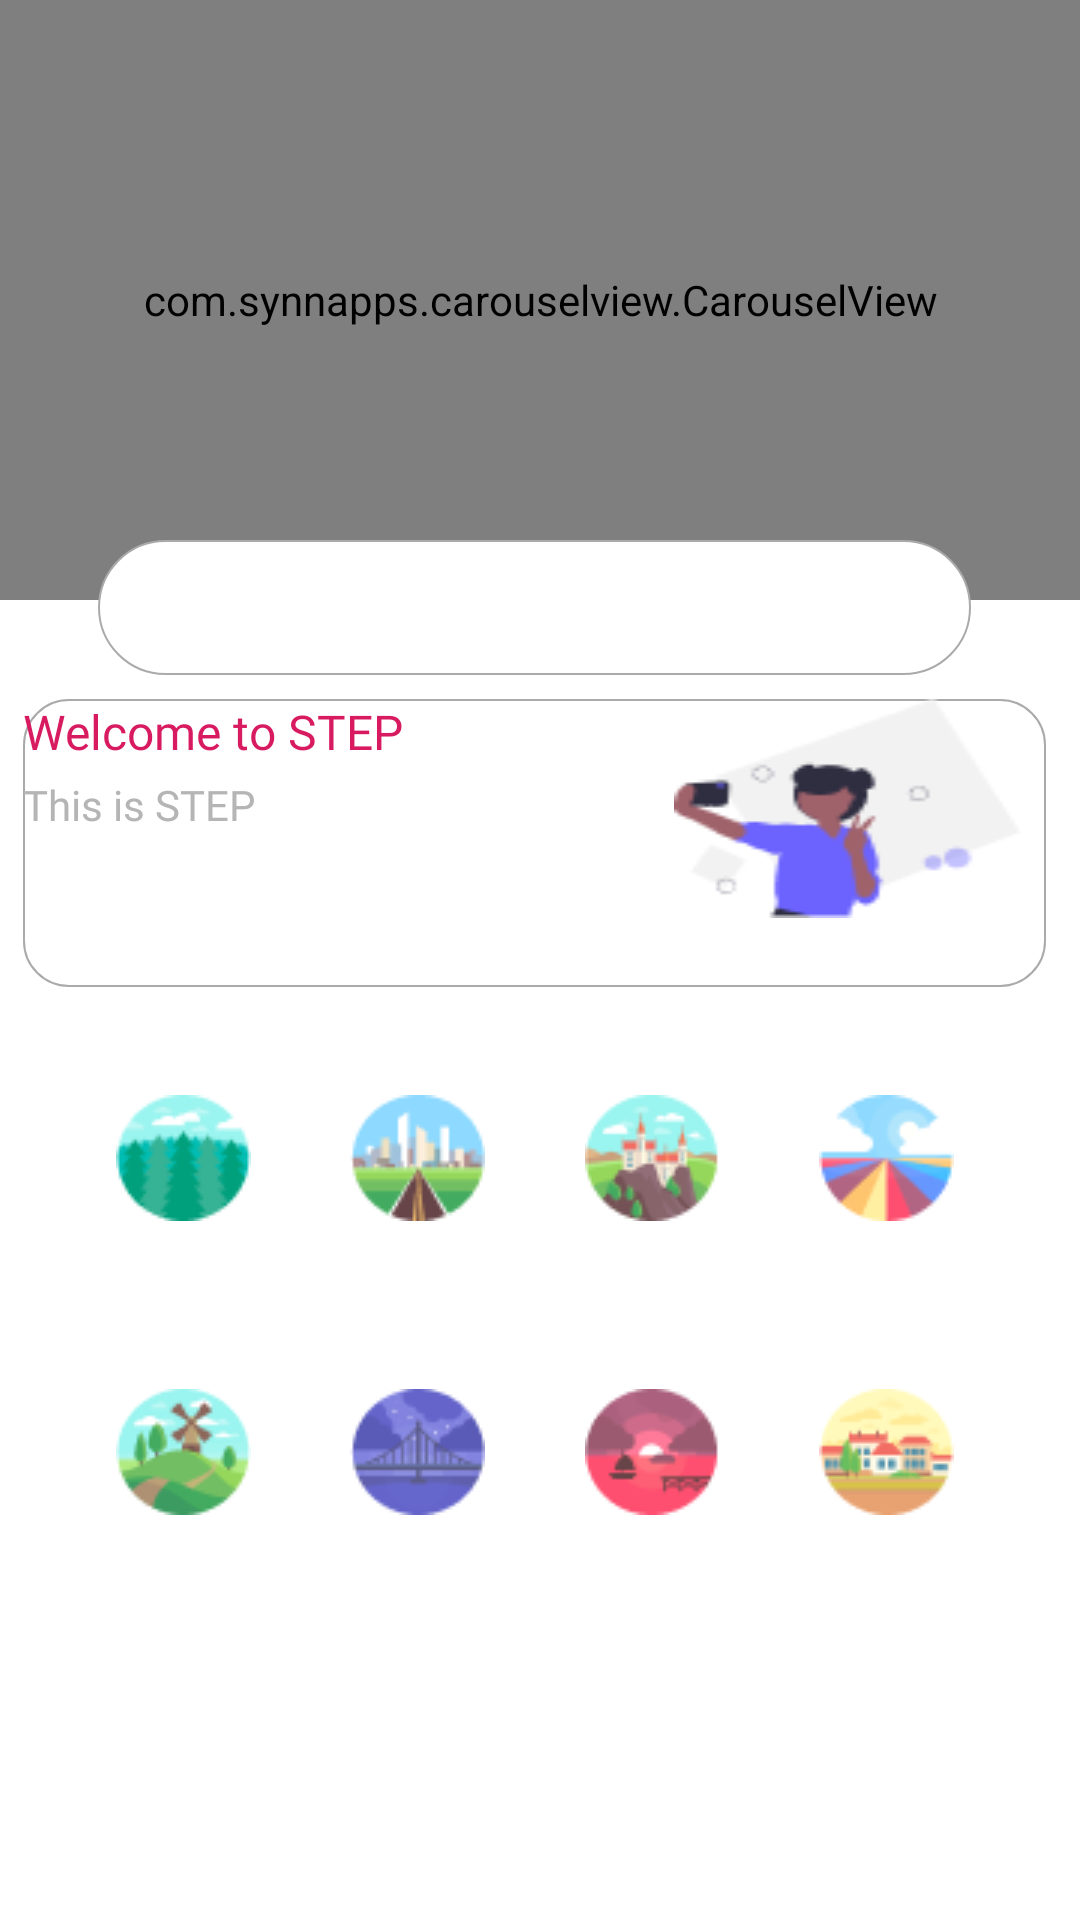

Screen size 1080×1920. Icon name, then its center in pixels as (x,y):
alam: (183,1158)
Headline Pic: (822,840)
kota: (418,1158)
